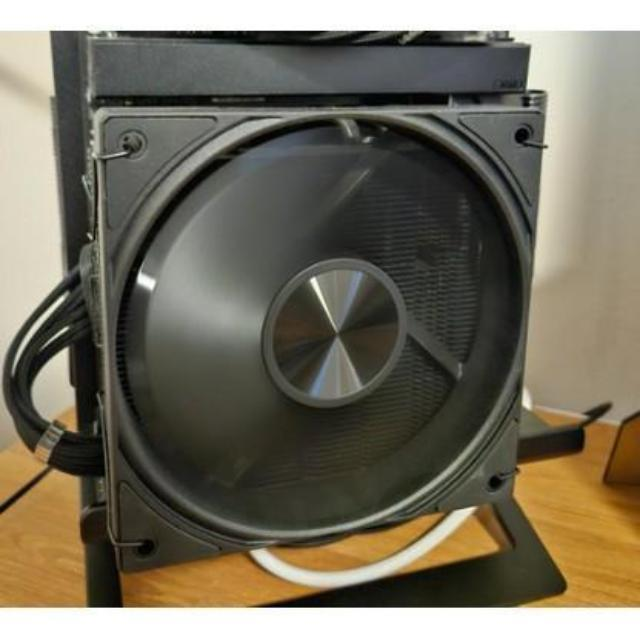CPU_Fan: (61, 96, 528, 572)
